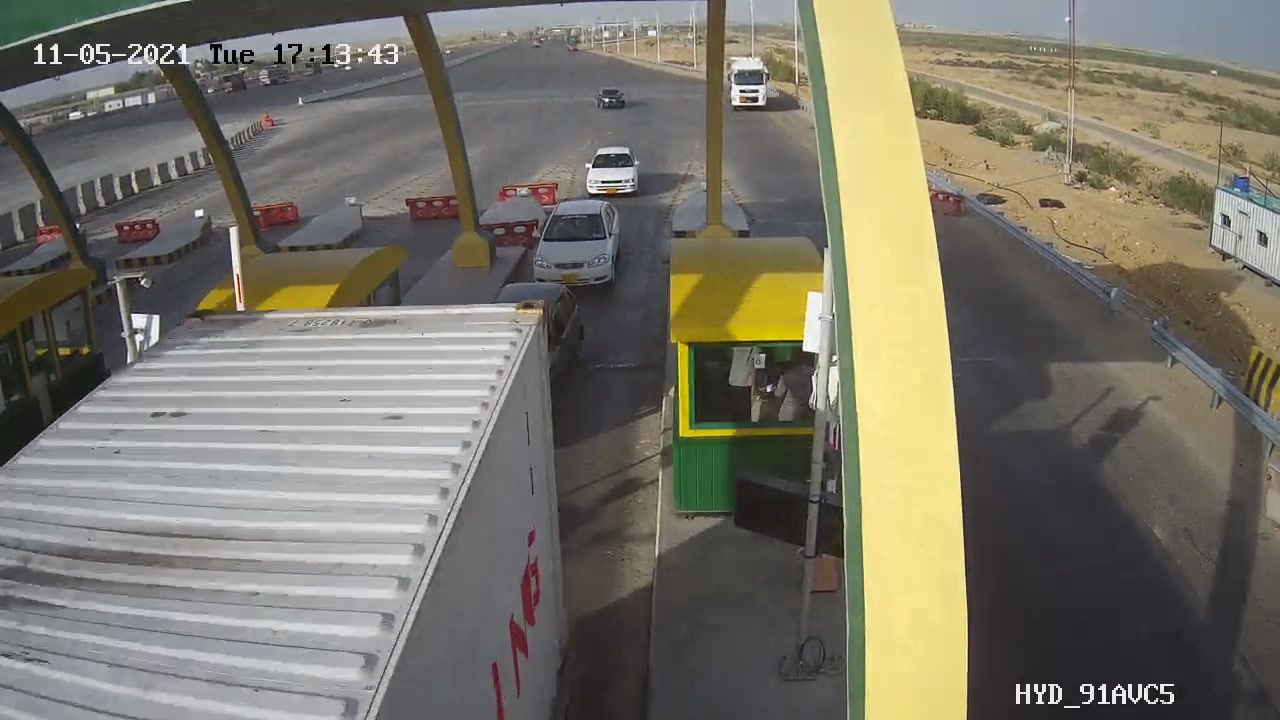F1: (518, 190, 634, 299)
